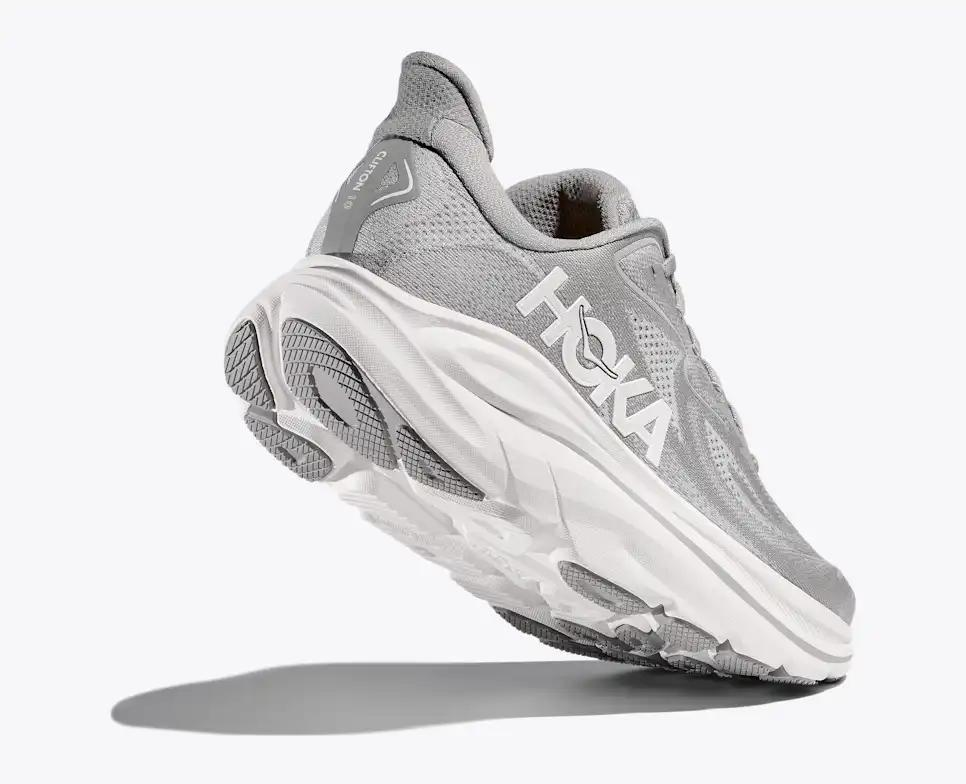hoka logo: (519, 265, 669, 464)
